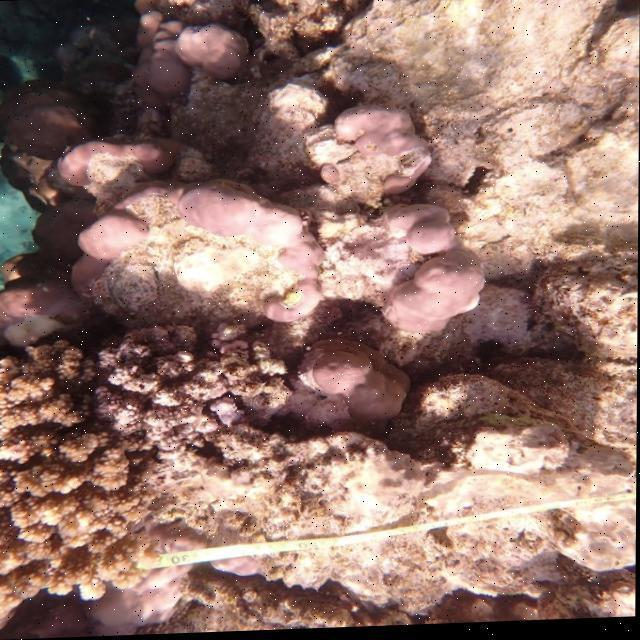Bleached Coral: (128, 215, 306, 292)
